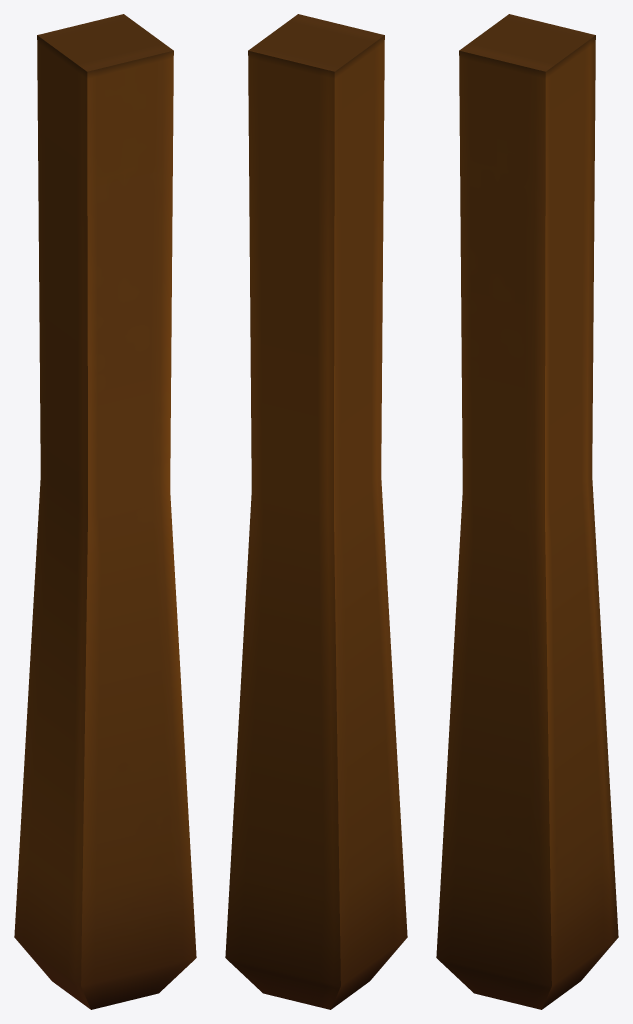
Rendered from Room_01_Pillar.FBX.
The picture shows the model from 3 angles, left to right: view 1: azimuth 30°, elevation 25°; view 2: azimuth 150°, elevation 25°; view 3: azimuth 330°, elevation 25°; orthographic projection.
Parts seen in each view (by area): view 1: Pillar; view 2: Pillar; view 3: Pillar.
Part boxes in pixels (box(x1,y1,x2,y2)): Pillar: box(14, 14, 196, 1009); Pillar: box(225, 14, 407, 1009); Pillar: box(436, 14, 618, 1009).
Bounding box in the file's own units: 11.7 × 91.38 × 11.7.
